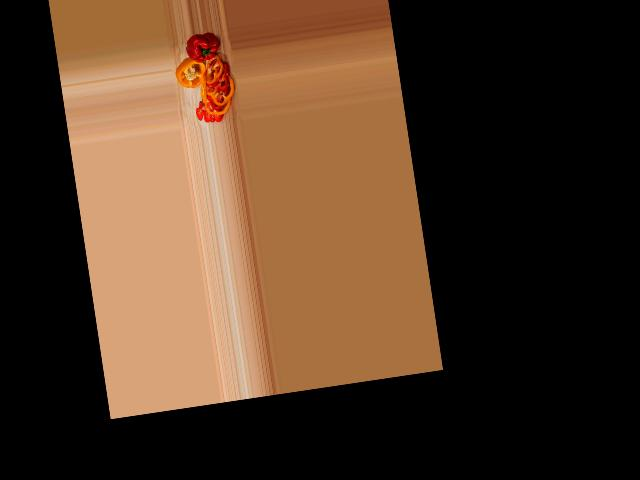bell_pepper: (172, 57, 208, 92)
